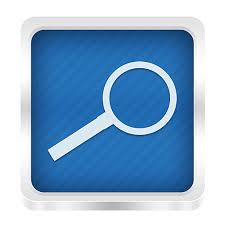searchIcon: (47, 58, 180, 163)
